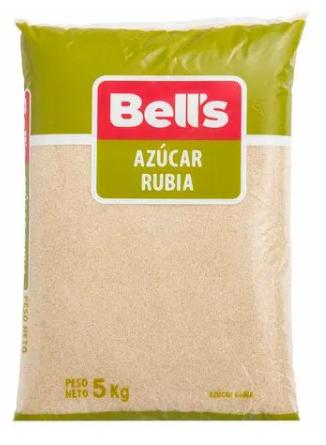brand: (92, 76, 246, 139)
net_weight: (91, 371, 136, 403)
product_name: (95, 141, 242, 201)
